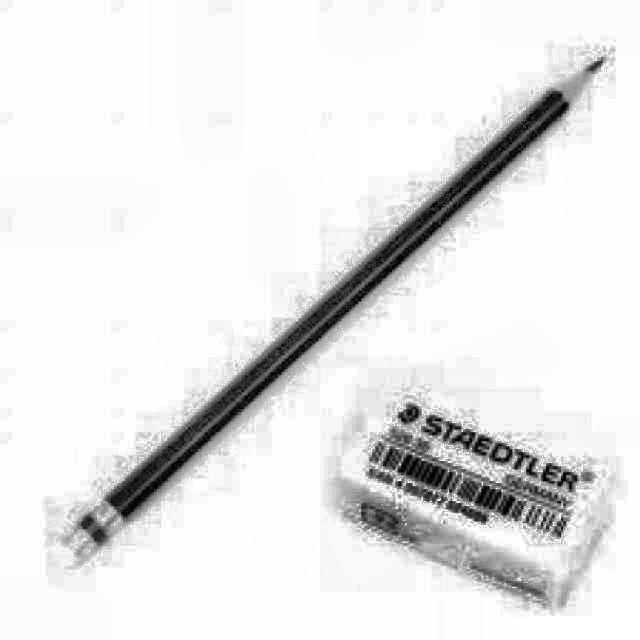eraser: (358, 392, 640, 640)
